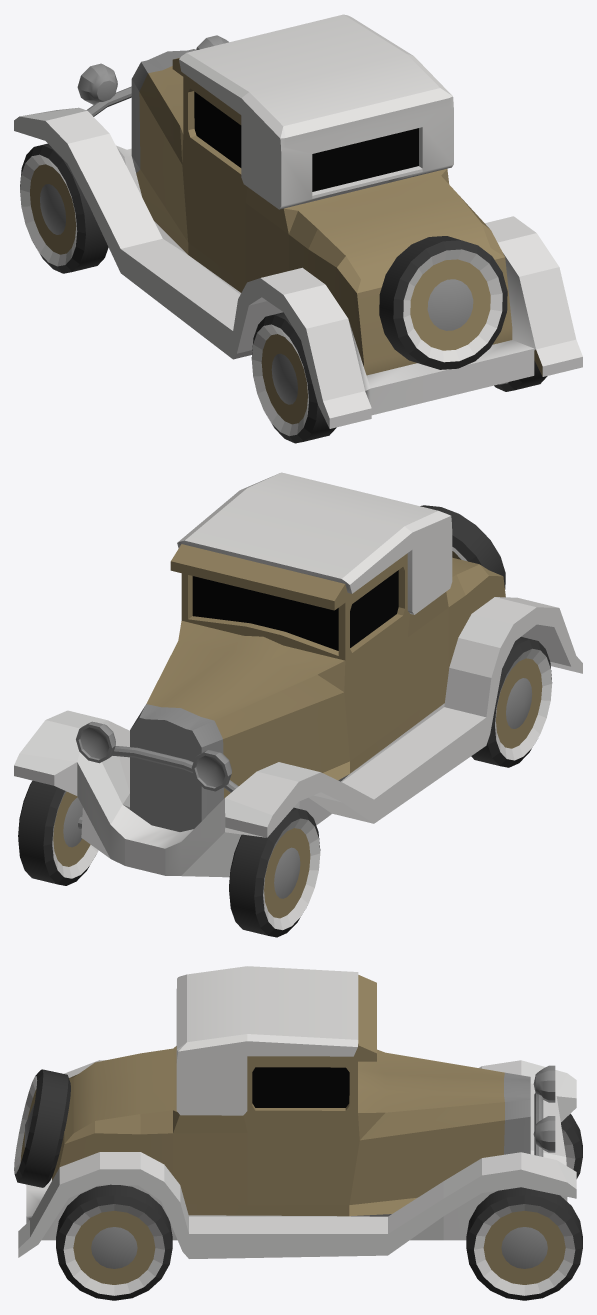
File: wreck1.fbx
3 views of the same model, one above another, from view 1: azimuth 30°, elevation 25°; view 2: azimuth 150°, elevation 25°; view 3: azimuth 270°, elevation 25° (orthographic). The views are drawn at different scales.
Visible parts, largest first — view 1: car, spare_tire, wheel_top_left, wheel_bot_left, left_headlight; view 2: car, wheel_top_left, wheel_bot_left, wheel_top_right, spare_tire, left_headlight, right_headlight, bar; view 3: car, wheel_bot_right, wheel_top_right, spare_tire, wheel_top_left, right_headlight, left_headlight.
Part boxes in pixels (x1,y1,x2,y2): car: [14, 14, 582, 428]; spare_tire: [379, 236, 507, 369]; wheel_top_left: [20, 143, 108, 273]; wheel_bot_left: [251, 312, 336, 443]; left_headlight: [77, 63, 117, 104]; car: [14, 472, 582, 877]; wheel_top_left: [229, 807, 320, 937]; wheel_bot_left: [471, 637, 552, 767]; wheel_top_right: [18, 780, 98, 885]; spare_tire: [420, 505, 505, 589]; left_headlight: [191, 750, 231, 791]; right_headlight: [76, 721, 115, 763]; bar: [112, 746, 238, 792]; car: [18, 966, 576, 1258]; wheel_bot_right: [56, 1184, 172, 1300]; wheel_top_right: [466, 1187, 582, 1300]; spare_tire: [14, 1069, 70, 1187]; wheel_top_left: [561, 1114, 582, 1178]; right_headlight: [533, 1116, 555, 1152]; left_headlight: [533, 1065, 555, 1102].
Size of the model in its own units: 9.61 by 10.24 by 21.13.
